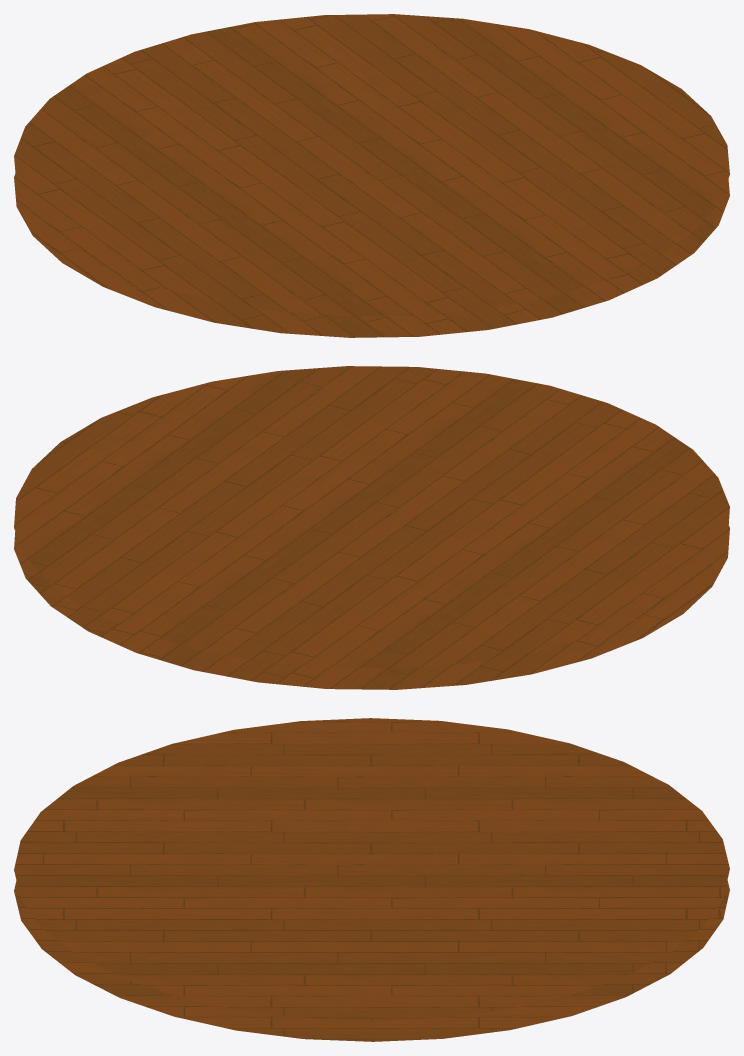
File: SM_FloorWood_02.fbx
3 renders of one model, top to bottom at view 1: azimuth 30°, elevation 25°; view 2: azimuth 150°, elevation 25°; view 3: azimuth 270°, elevation 25°, orthographic.
Parts seen in each view (by area): view 1: SM_FloorWood_02; view 2: SM_FloorWood_02; view 3: SM_FloorWood_02.
Part boxes in pixels (x1,y1,x2,y2): SM_FloorWood_02: (14, 14, 729, 337); SM_FloorWood_02: (14, 366, 729, 689); SM_FloorWood_02: (14, 718, 729, 1041).
Size of the model in its own units: 12.3 by 0.4018 by 12.3.
